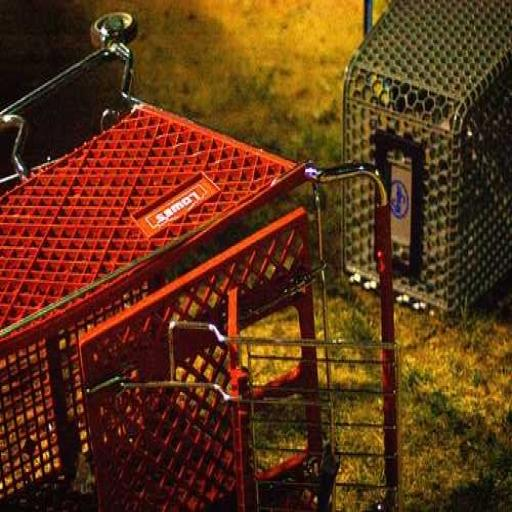shopping_cart: (2, 11, 399, 512), (339, 1, 512, 316)
